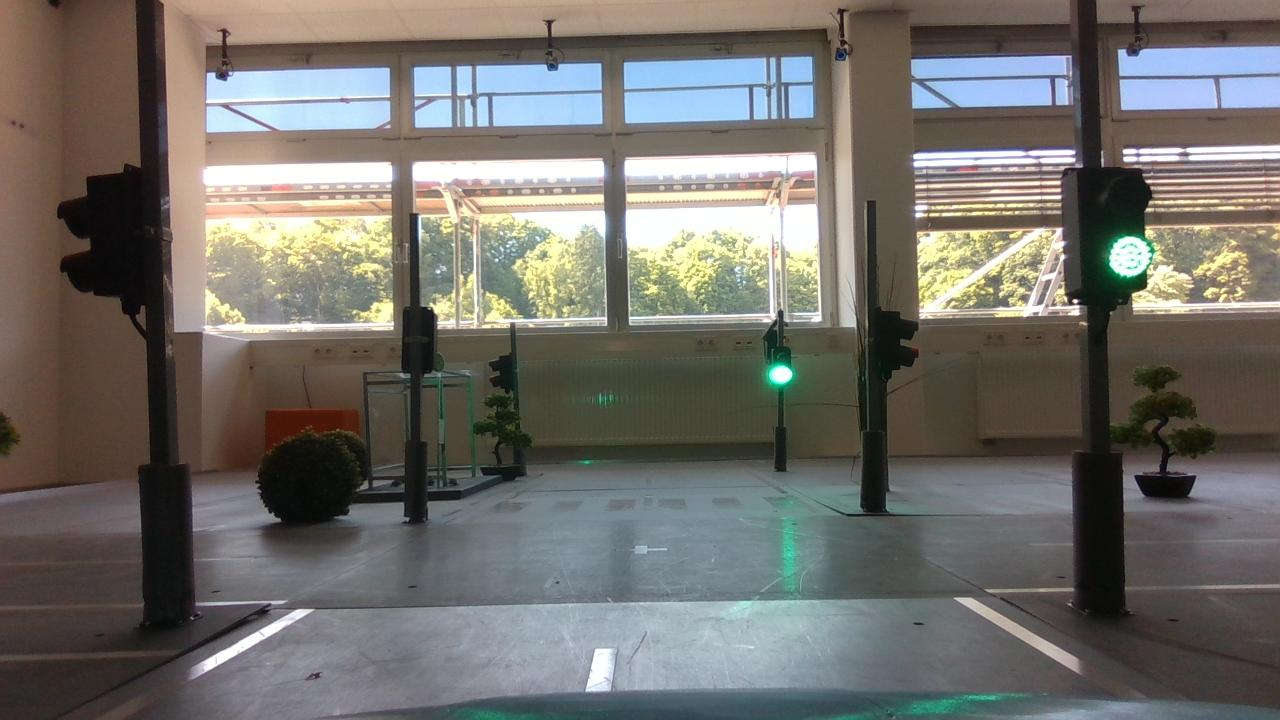traffic_light_green: (1051, 156, 1166, 318)
